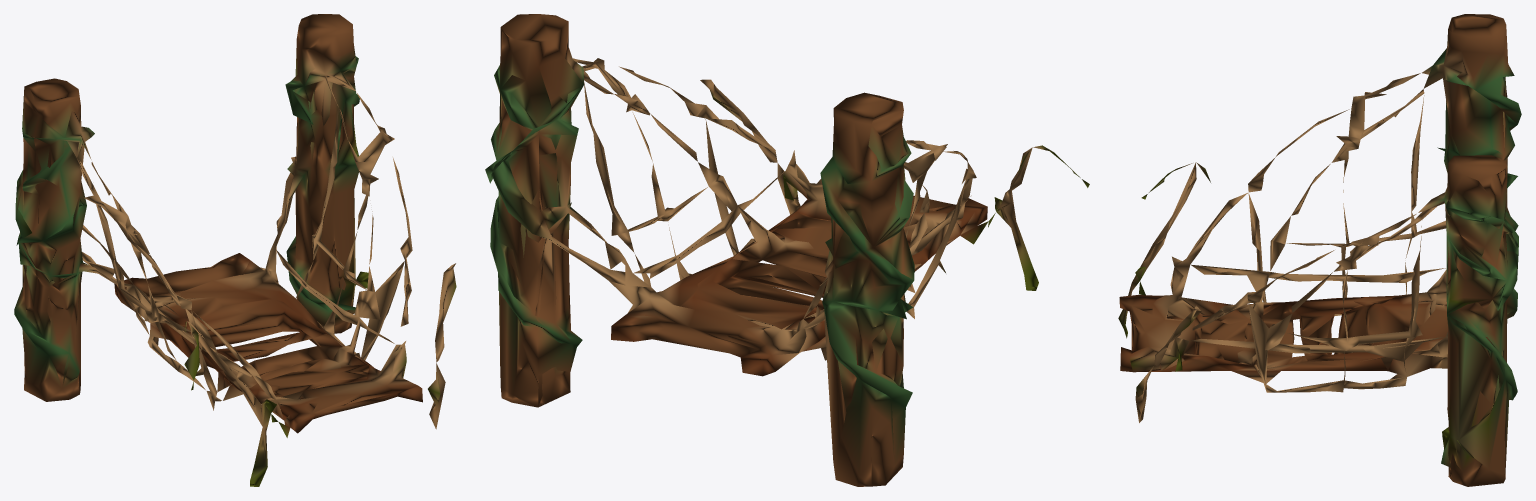
File: gen3d-jungle-vine-bridge-lod0.glb
3 views of the same model, side by side, from view 1: azimuth 30°, elevation 25°; view 2: azimuth 150°, elevation 25°; view 3: azimuth 270°, elevation 25° (orthographic). The views are drawn at different scales.
Parts seen in each view (by area): view 1: part_0; view 2: part_0; view 3: part_0.
Boxes of the visible parts, bbox=[...] form: part_0: bbox=[14, 14, 456, 486]; part_0: bbox=[485, 14, 1089, 486]; part_0: bbox=[1118, 14, 1521, 486].
Size of the model in its own units: 1.16 by 0.995 by 1.15.
